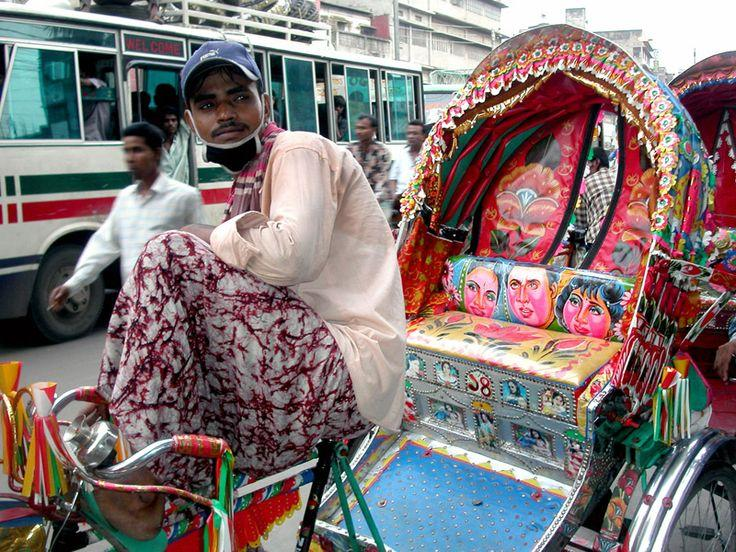Rickshaw: (313, 25, 735, 551), (670, 51, 735, 227)
